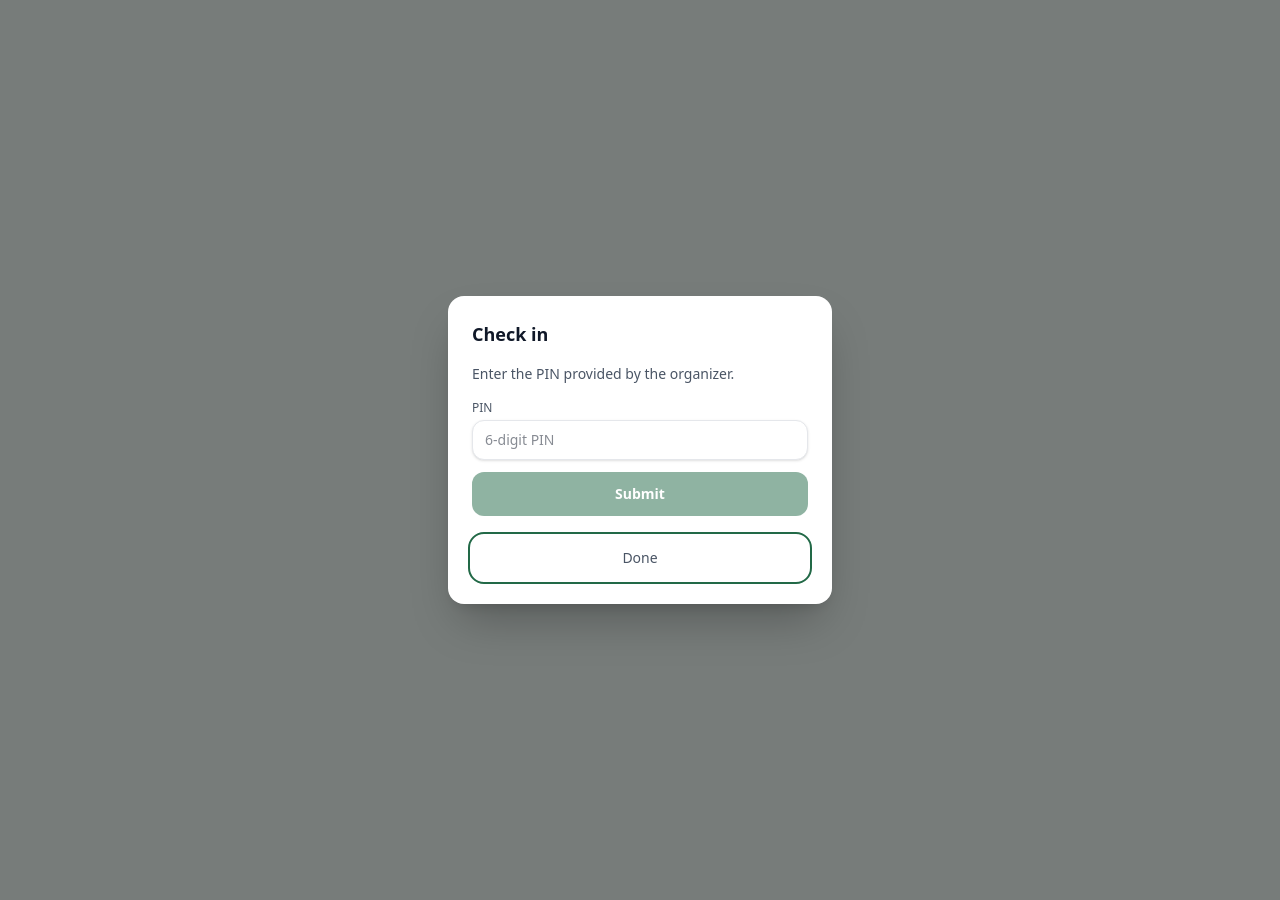
Test case: CheckInModal a11y › has no violations after a successful check-in
Type "123456" into the field labelled "PIN" at [640, 440], box [472, 420, 808, 460]
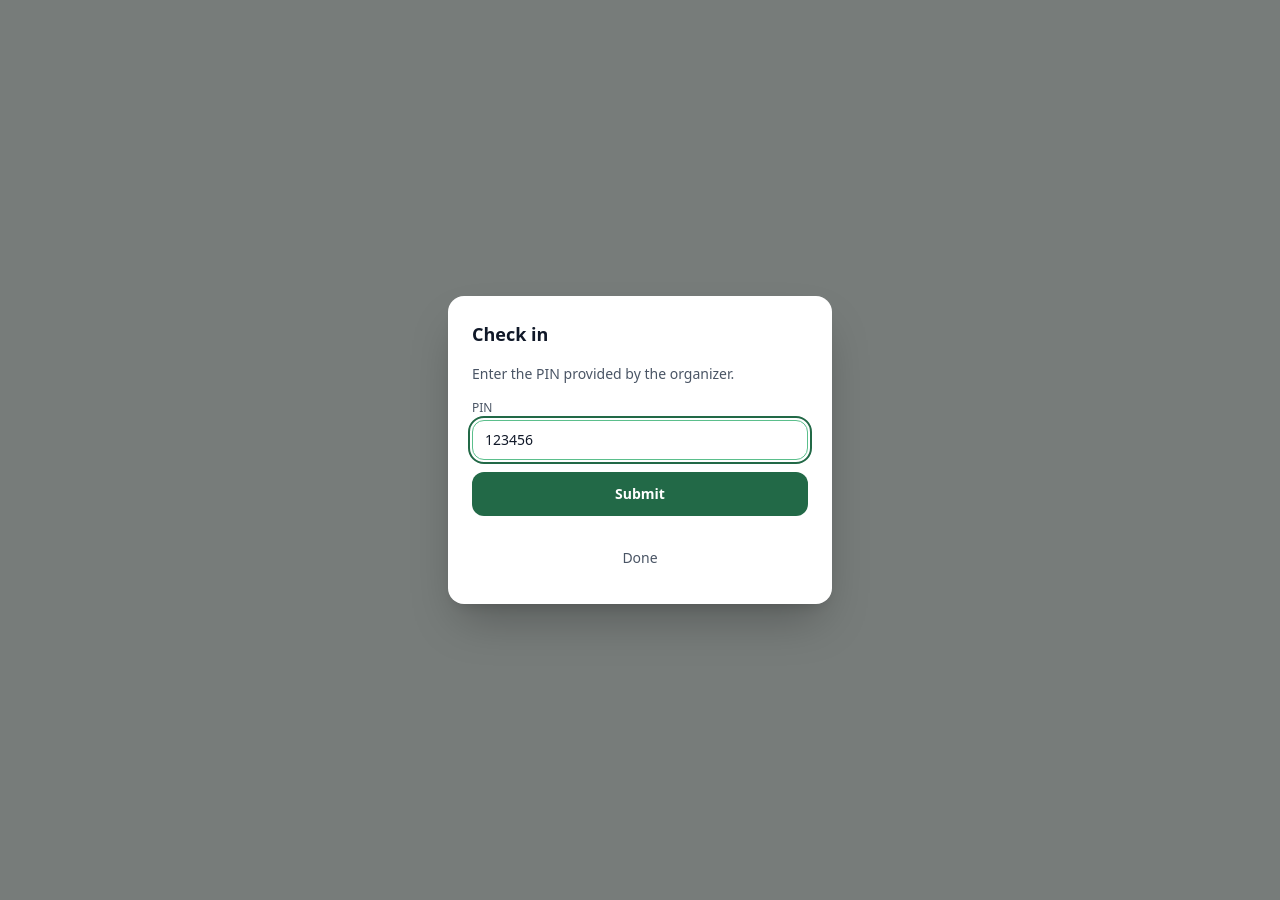
Click the button "Submit" at [640, 494], box [472, 472, 808, 516]
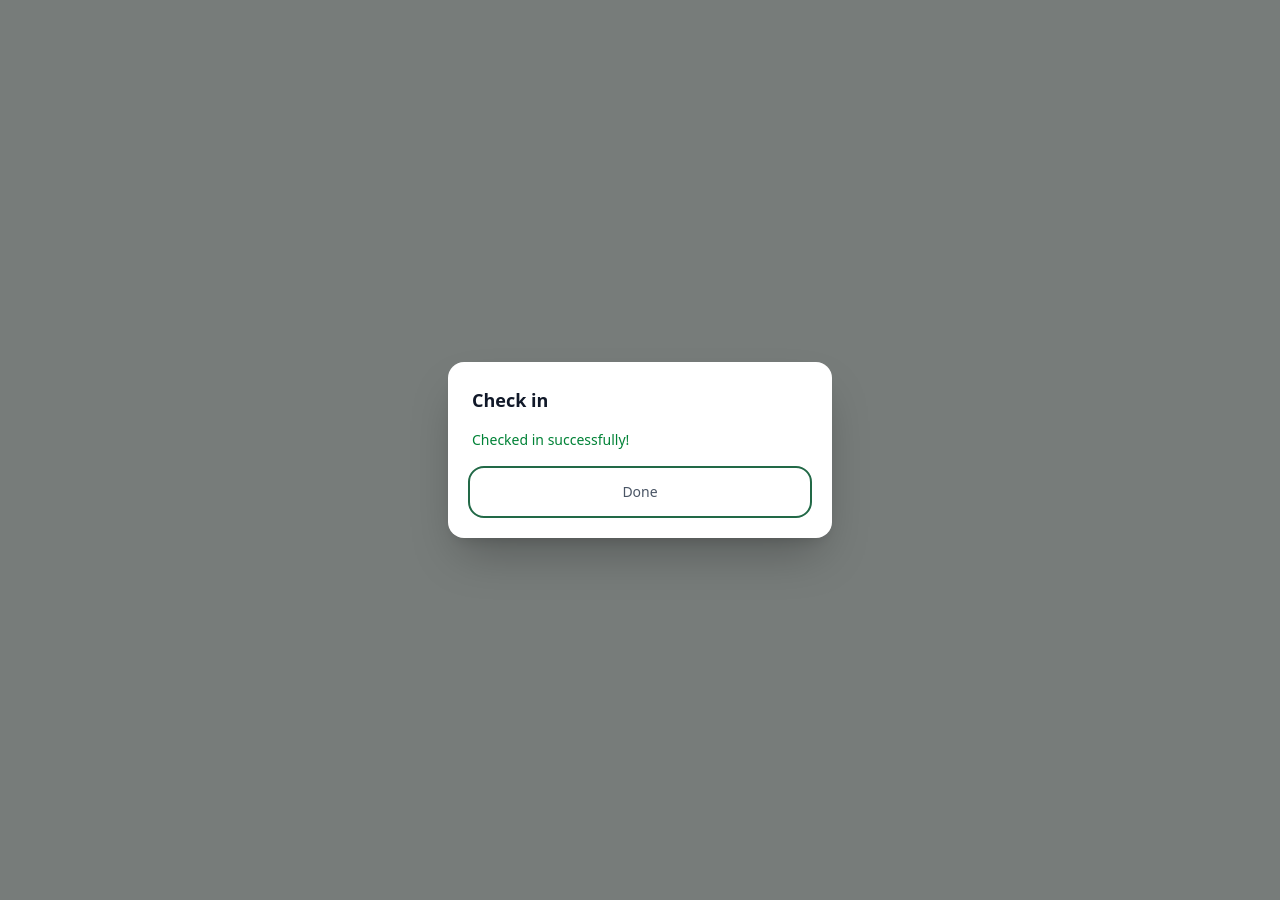
Check: the message "Checked in successfully!" is not empty, box [472, 430, 629, 449]
